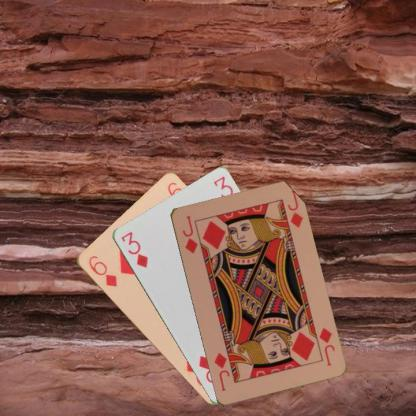3d: (118, 229, 149, 269)
6d: (86, 252, 118, 288)
Jd: (179, 212, 199, 254), (316, 325, 336, 367)
